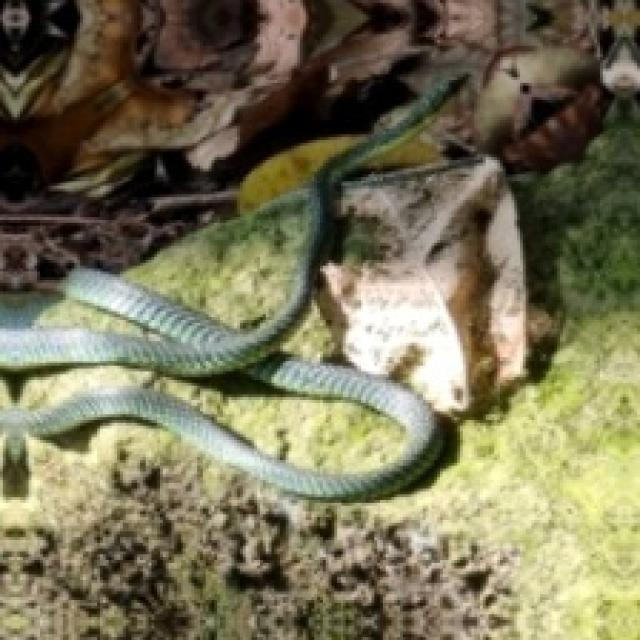paradise tree snake: (0, 76, 463, 499)
